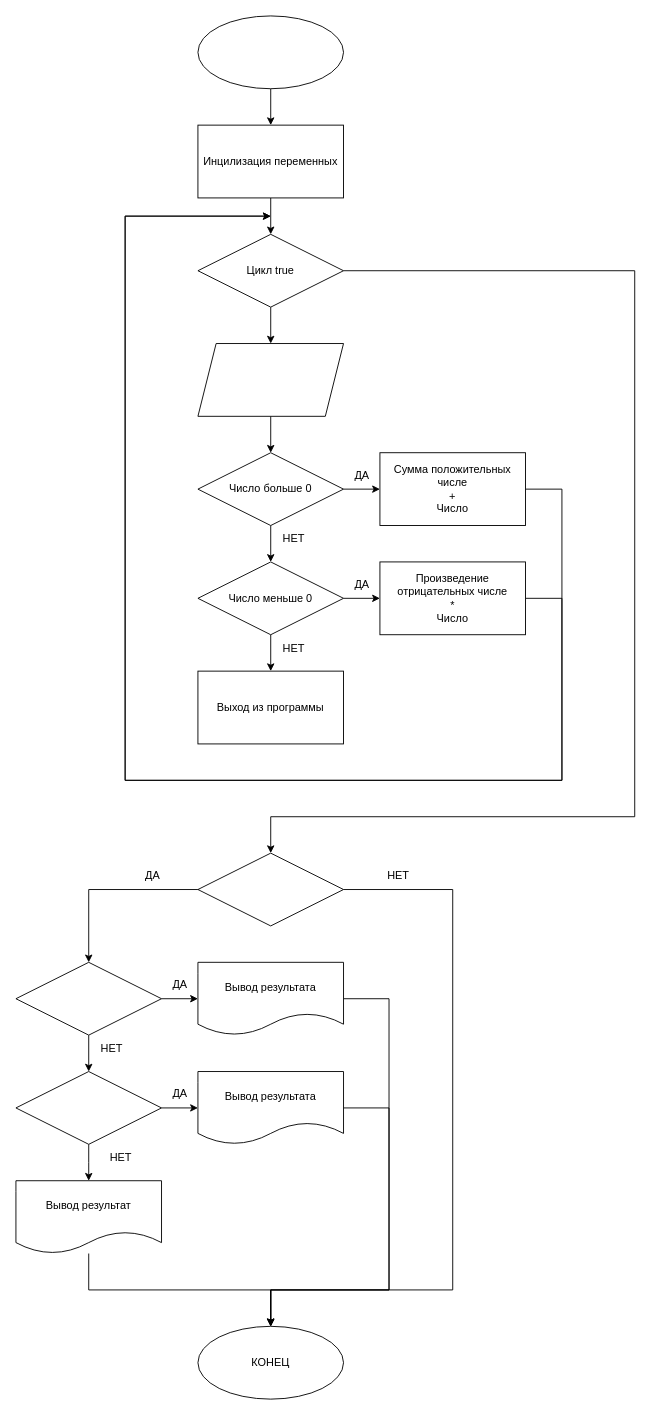
The diagram is 658 pixels wide and 1415 high, and some of its shapes have lost their labels. The shapes that lost their labels are listed below. From the top down, each one's box as (x1, y1, x2, y2) in pixels, then its label:
(197, 15, 344, 89): НАЧАЛО
(197, 343, 344, 416): Ввод числа
(197, 852, 344, 926): Флаг проверки = false
(15, 961, 162, 1035): Сумма положительных > Произведение отрицательных
(15, 1071, 162, 1144): Сумма положительных < Произведение отрицательных
